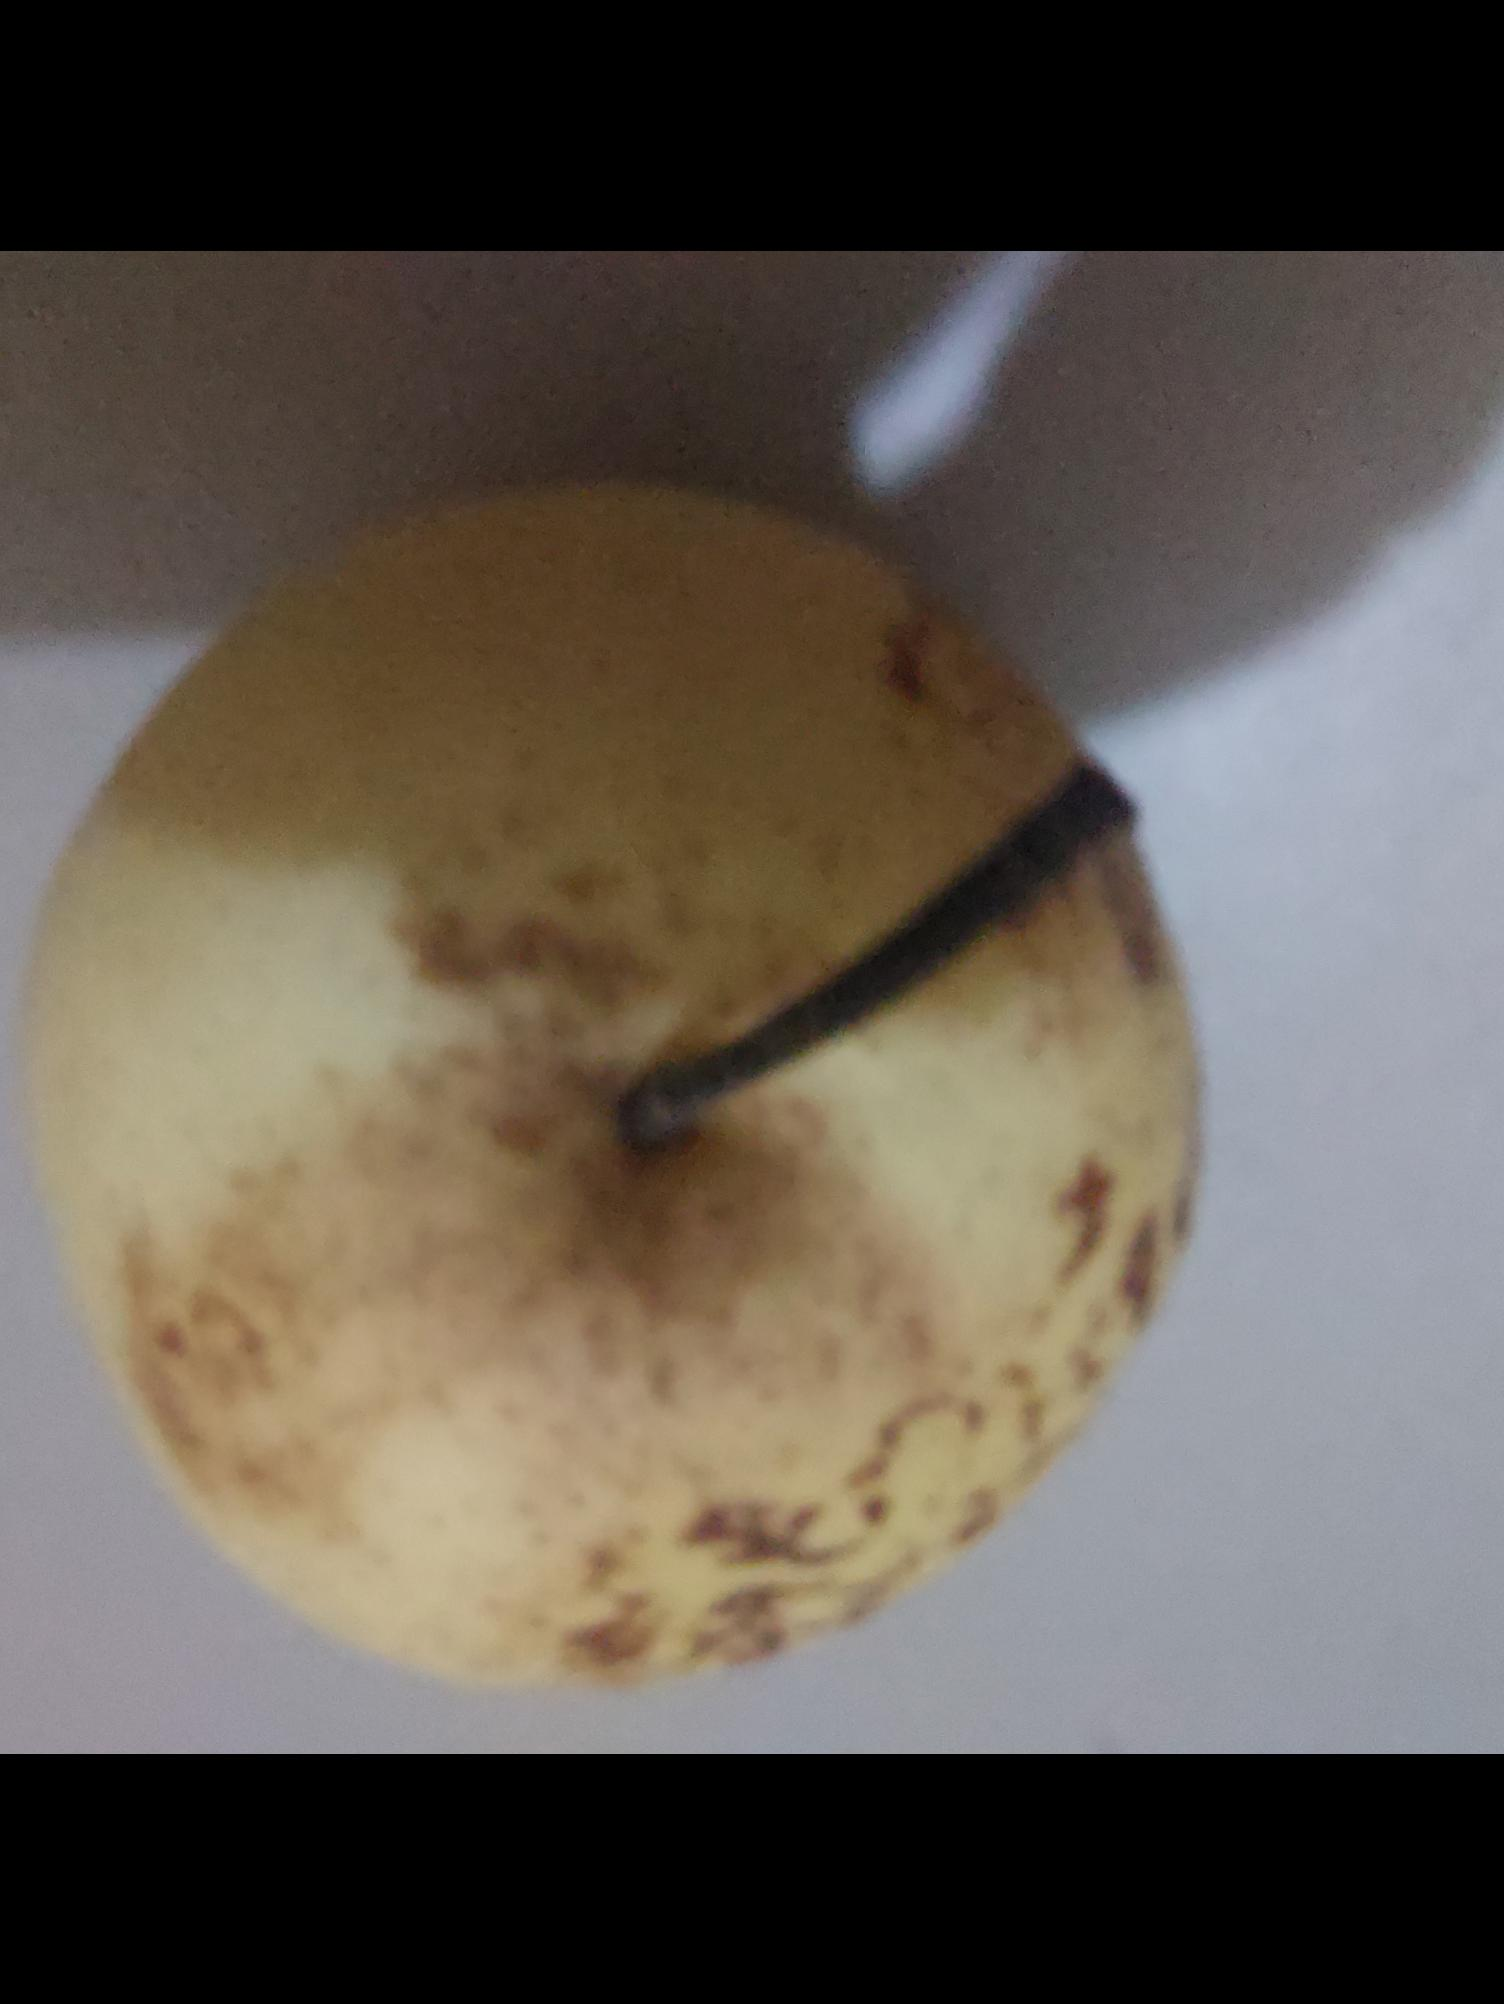Bad Pear: (6, 478, 1194, 1682)
